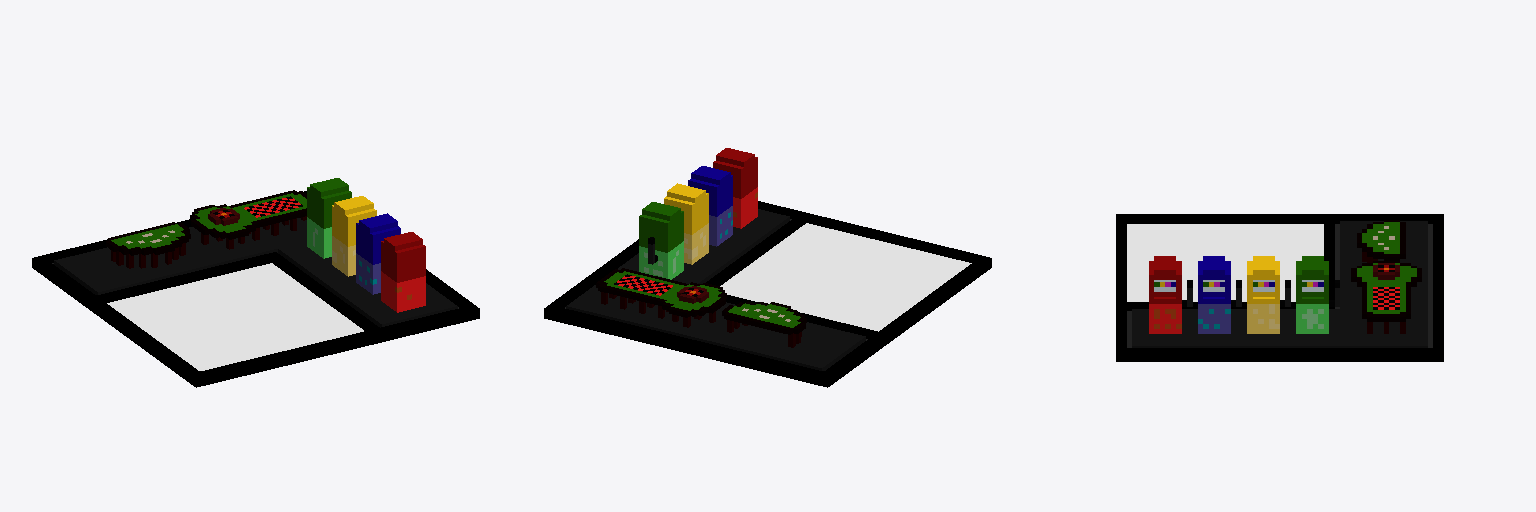
The picture shows the model from 3 angles: view 1: azimuth 30°, elevation 25°; view 2: azimuth 150°, elevation 25°; view 3: azimuth 270°, elevation 25°; orthographic projection.
Visible parts, largest first — view 1: object 1; view 2: object 1; view 3: object 1.
Boxes of the visible parts, x1,y1,x2,y2 form: object 1: [32, 178, 479, 387]; object 1: [544, 148, 991, 387]; object 1: [1116, 214, 1443, 361].
Bounding box in the file's own units: 6 × 1.5 × 6.
Materials: 1 (1 with a texture image).